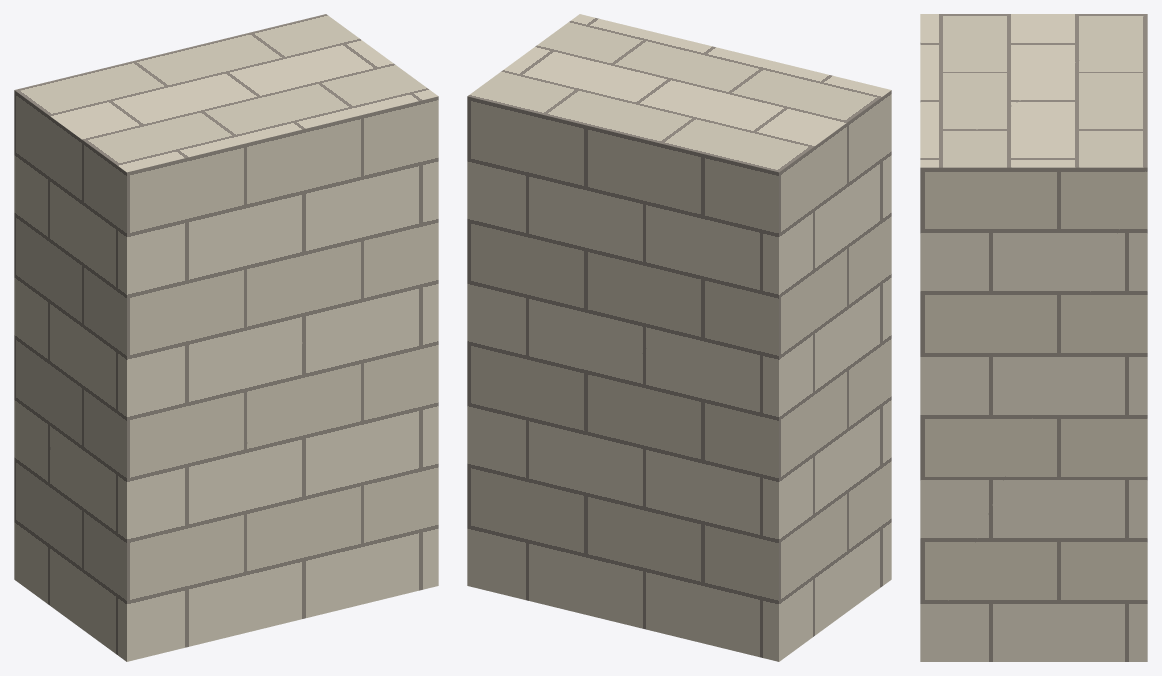
The model's file is repere.glb.
The picture shows the model from 3 angles, left to right: view 1: azimuth 30°, elevation 25°; view 2: azimuth 150°, elevation 25°; view 3: azimuth 270°, elevation 25°; orthographic projection.
Parts seen in each view (by area): view 1: repere; view 2: repere; view 3: repere.
Part boxes in pixels (x1,y1,x2,y2): repere: (14, 14, 438, 661); repere: (467, 14, 891, 661); repere: (920, 14, 1147, 661).
Size of the model in its own units: 2 by 3 by 1.25.
1 material, 1 textured.
